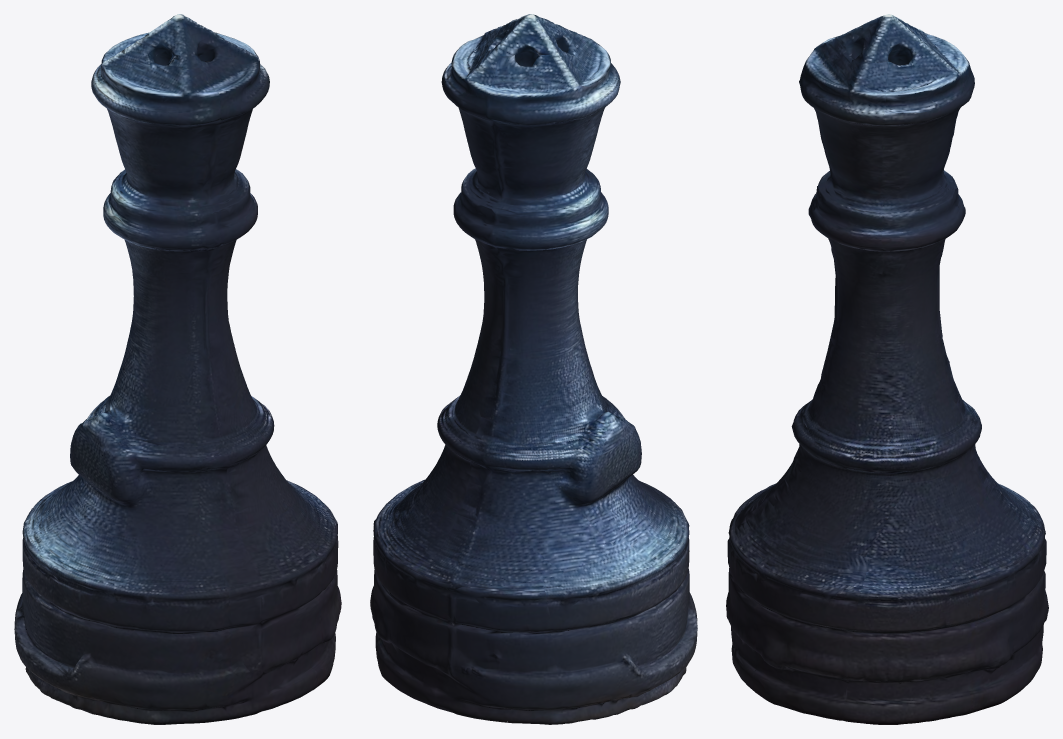
File: king.glb
The picture shows the model from 3 angles, left to right: view 1: azimuth 30°, elevation 25°; view 2: azimuth 150°, elevation 25°; view 3: azimuth 270°, elevation 25°; orthographic projection.
Visible parts, largest first — view 1: tripo_node_4b4b540a-03f9-4045-95d0-683c23cfd254; view 2: tripo_node_4b4b540a-03f9-4045-95d0-683c23cfd254; view 3: tripo_node_4b4b540a-03f9-4045-95d0-683c23cfd254.
Part boxes in pixels (<box>): tripo_node_4b4b540a-03f9-4045-95d0-683c23cfd254: <box>14,14,341,724</box>; tripo_node_4b4b540a-03f9-4045-95d0-683c23cfd254: <box>370,14,697,724</box>; tripo_node_4b4b540a-03f9-4045-95d0-683c23cfd254: <box>726,14,1048,724</box>.
Bounding box in the file's own units: 0.4514 × 0.9788 × 0.4439.
1 material, 1 textured.
